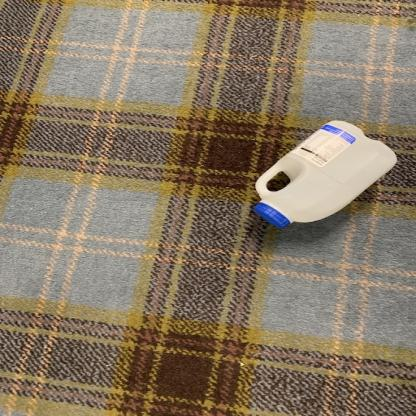trash: (249, 121, 400, 230)
